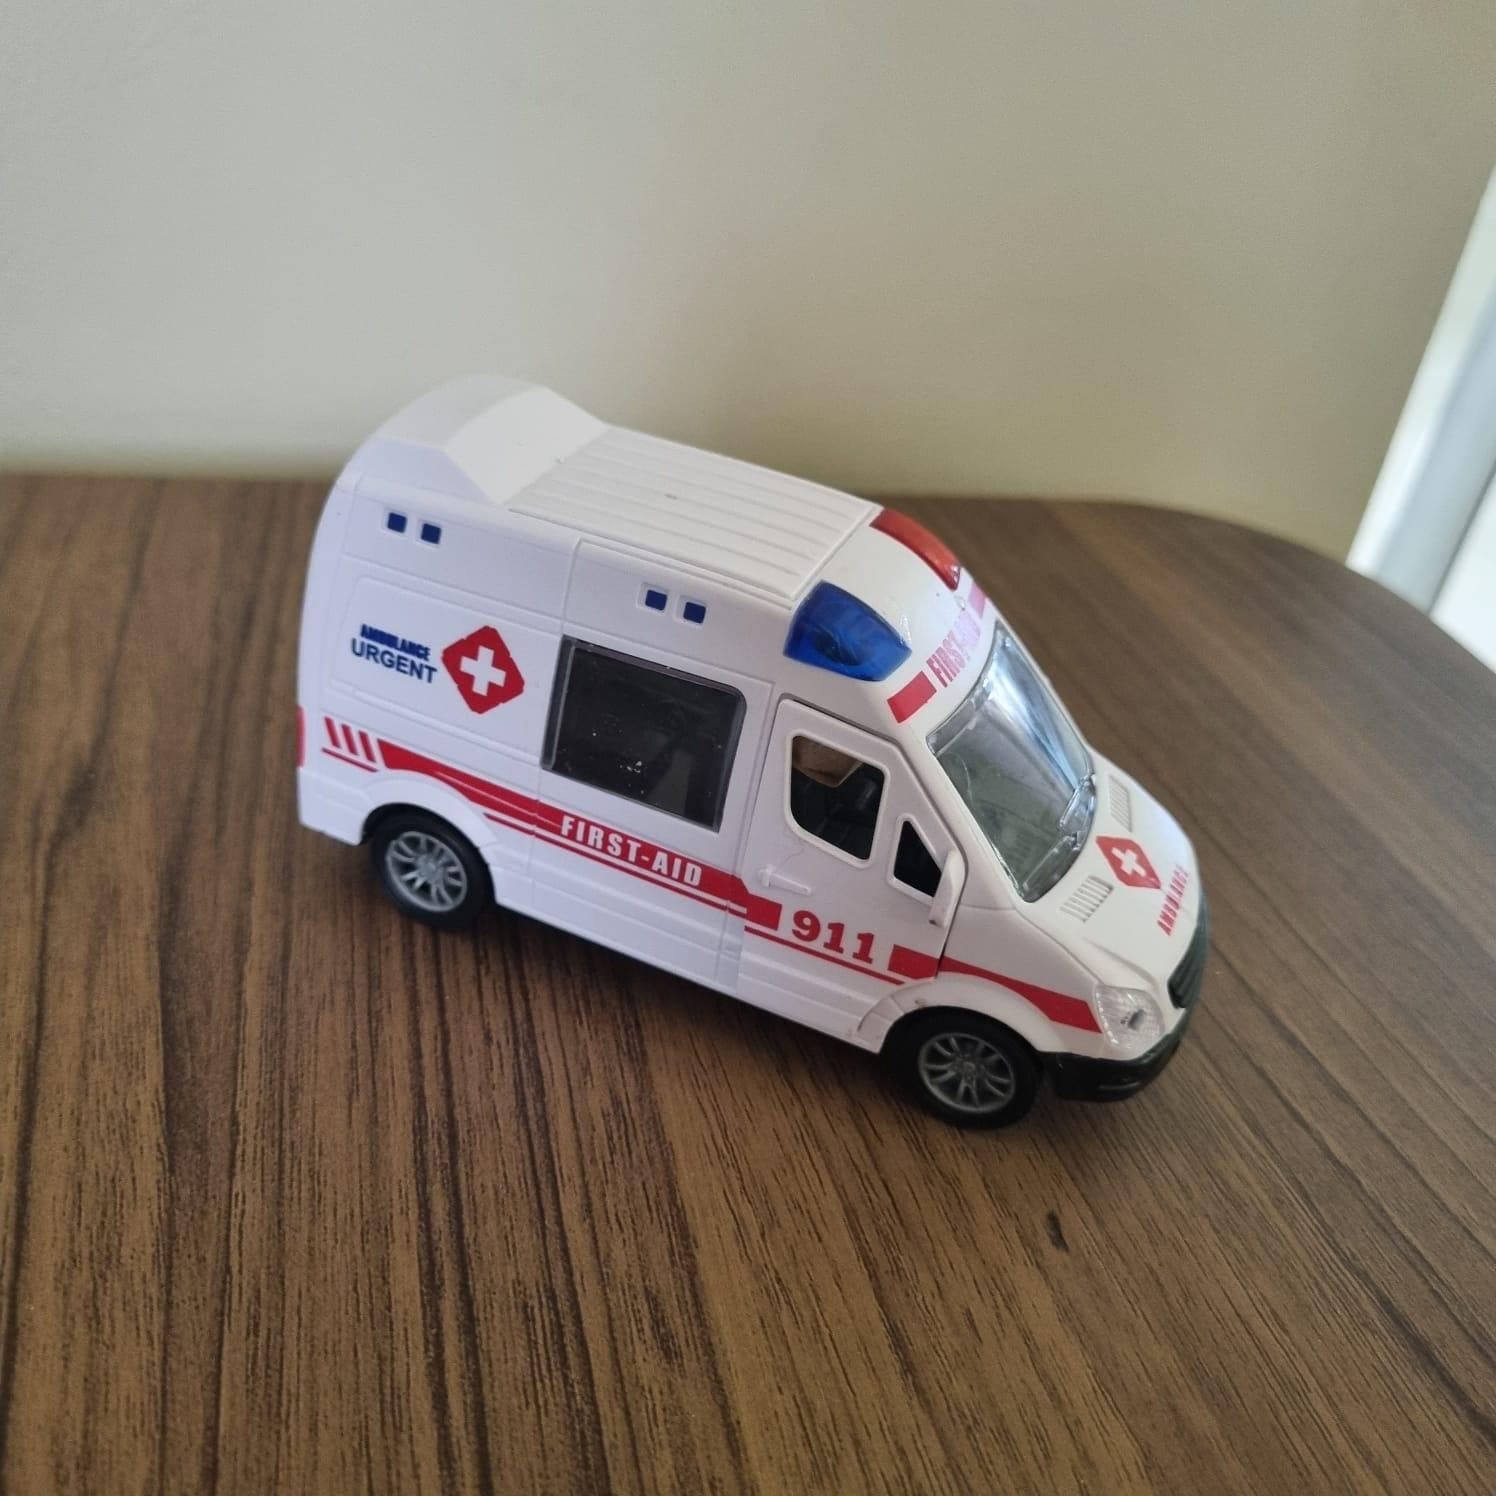ambulance_off: (295, 382, 1214, 1143)
